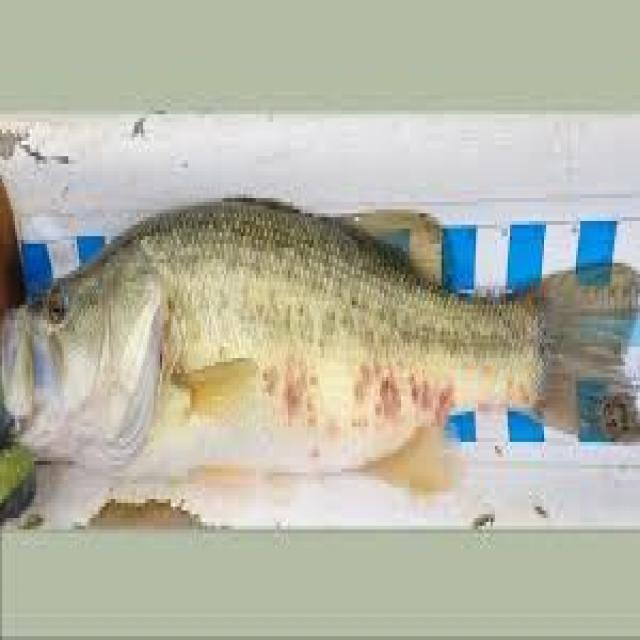EUS Disease: (2, 207, 640, 491), (218, 278, 338, 441), (352, 314, 462, 439)
